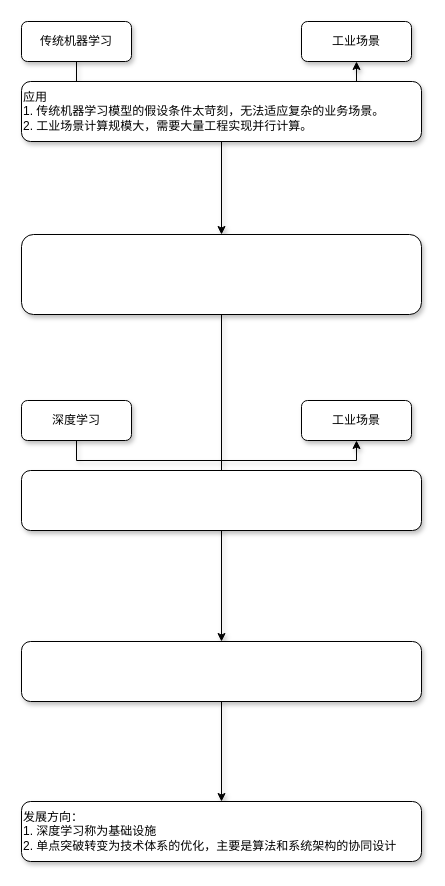
This 445x886 diagram has some shape labels left out. The centre of each missing label's shape, as x and y in pixels:
"应用 1. 拿锤子找钉子，把最新的技术应用在自己的场景上。 2. 问题驱动，定义问题，明确技术需求，调研相关技术工具。" belongs at (222,502).
"深度学习突破 1. 模型设计由复杂函数的设计优化转为简单网络结构的组合设计优化。 2. 优化方法的统一和简化 3. 模型设计和实现的解耦" belongs at (222,276).
"瓶颈 1. 搭积木式的模型架构演进，边际收益越来越低。 2. 模型复杂度的提升对数据的需求越来越大 3. 相关配套工程系统架构的优化和升级" belongs at (222,672).
